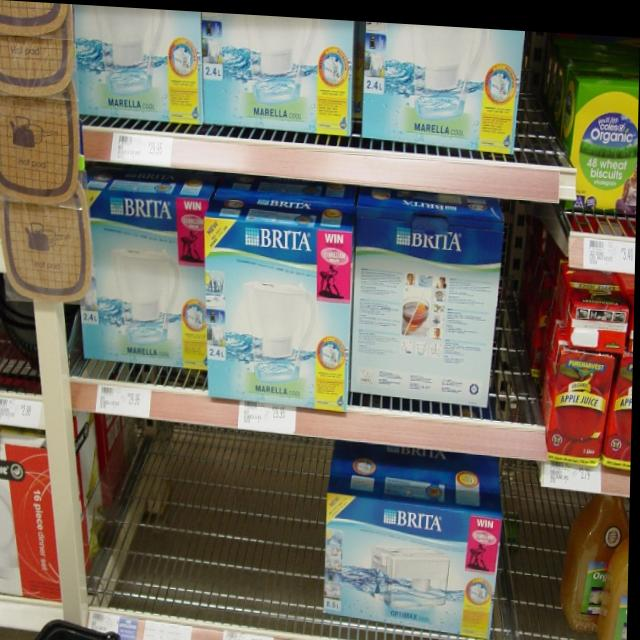q220: (357, 205, 509, 408), (209, 202, 355, 405), (329, 477, 506, 633), (85, 175, 212, 387), (358, 17, 522, 143), (206, 10, 354, 129), (78, 4, 204, 114)
